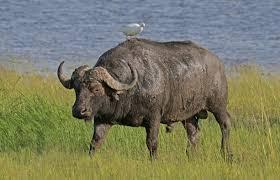Buffalo: (57, 27, 254, 170)
